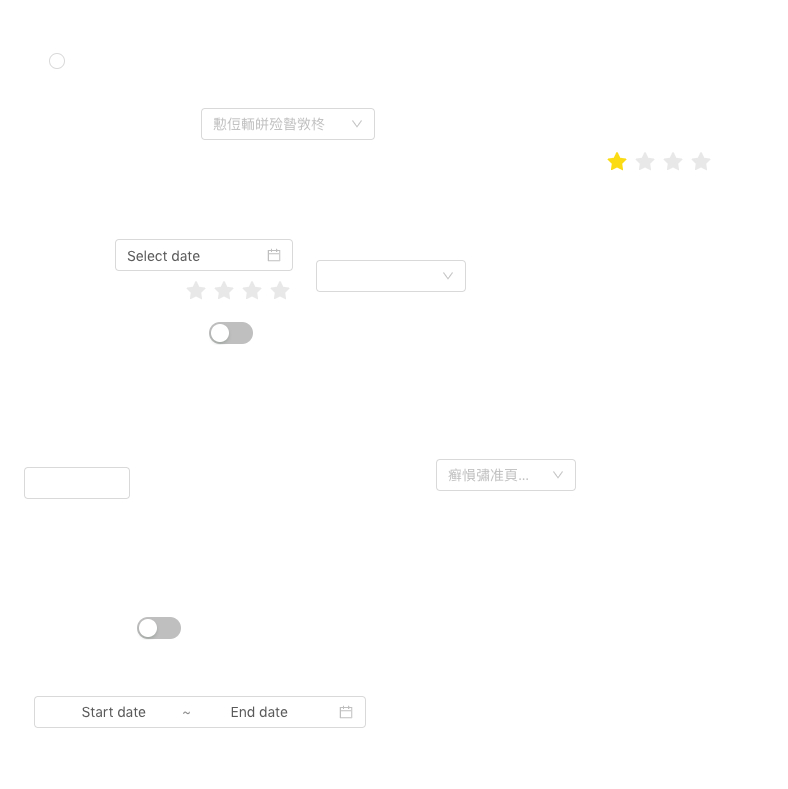DatePicker: (115, 239, 293, 271)
Input: (24, 467, 130, 499)
Radio: (49, 50, 65, 70)
RangePicker: (34, 696, 608, 728)
Rate: (186, 274, 306, 306), (607, 145, 727, 177)
Select: (201, 108, 375, 140), (316, 260, 466, 292), (436, 459, 576, 491)
Switch: (137, 616, 181, 640), (209, 321, 253, 345)
